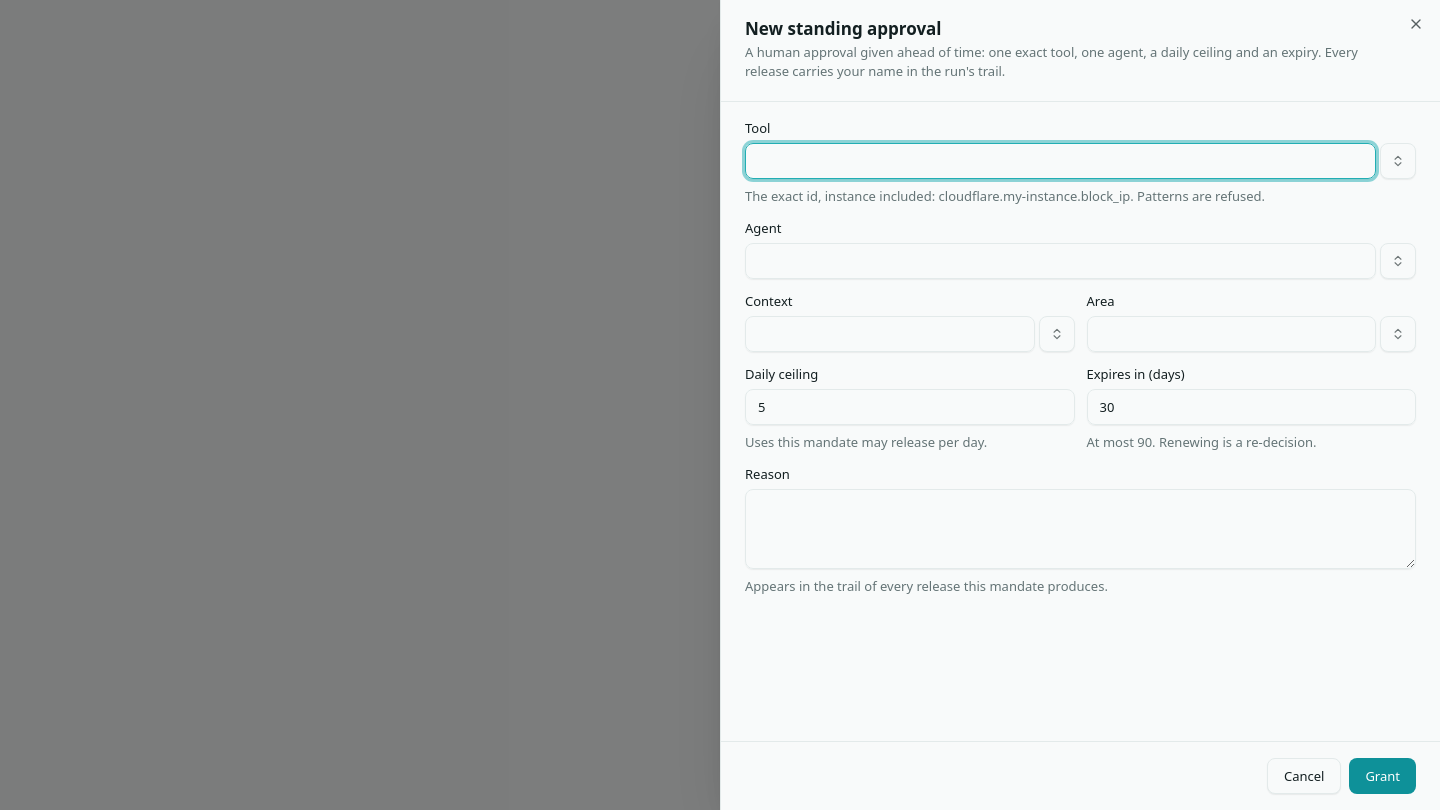
it: offers the declared companies and areas
Click the dropdown named "Suggest declared areas": [1398, 334] box [1380,316,1416,352]
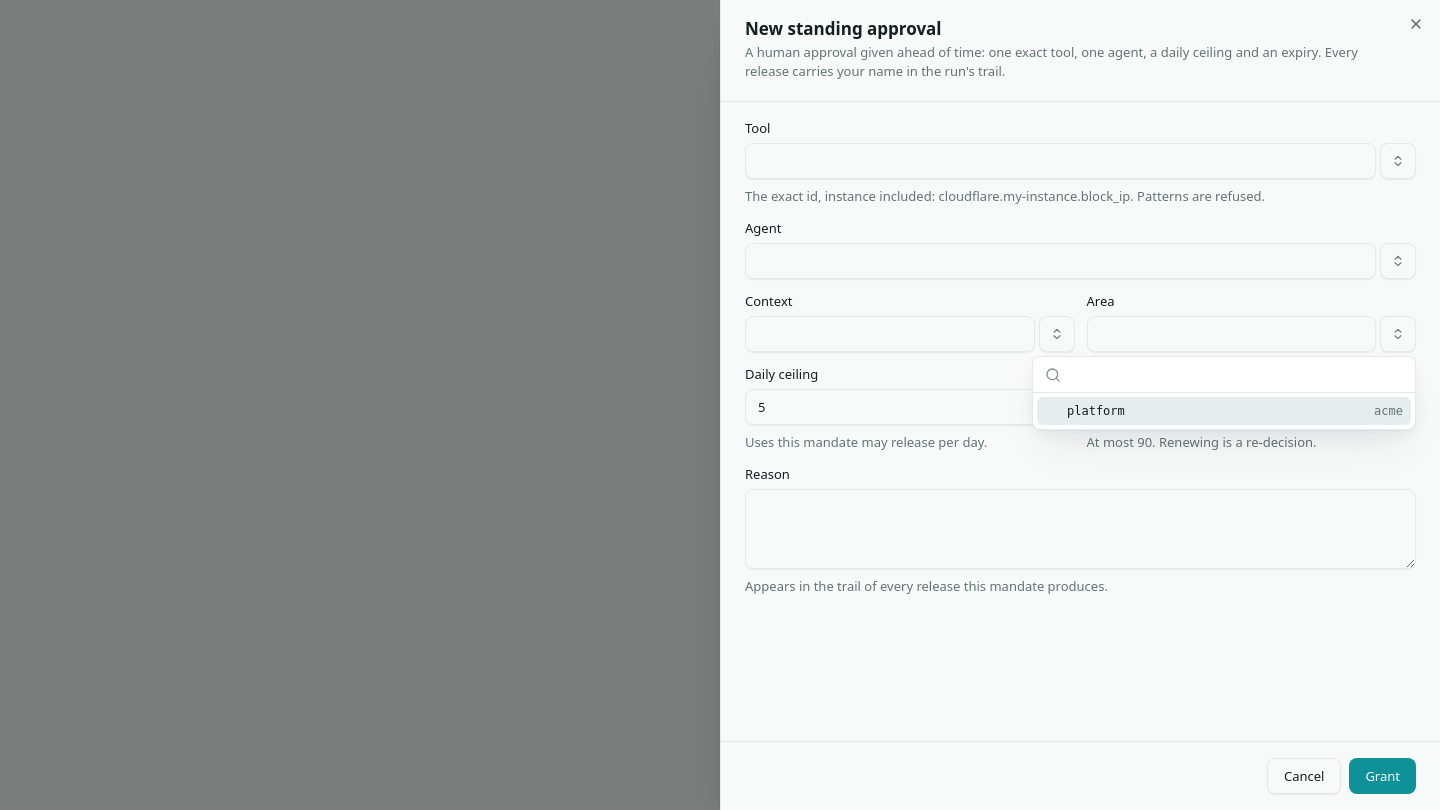
Click the text "platform": [1096, 411] box [1067,403,1125,419]
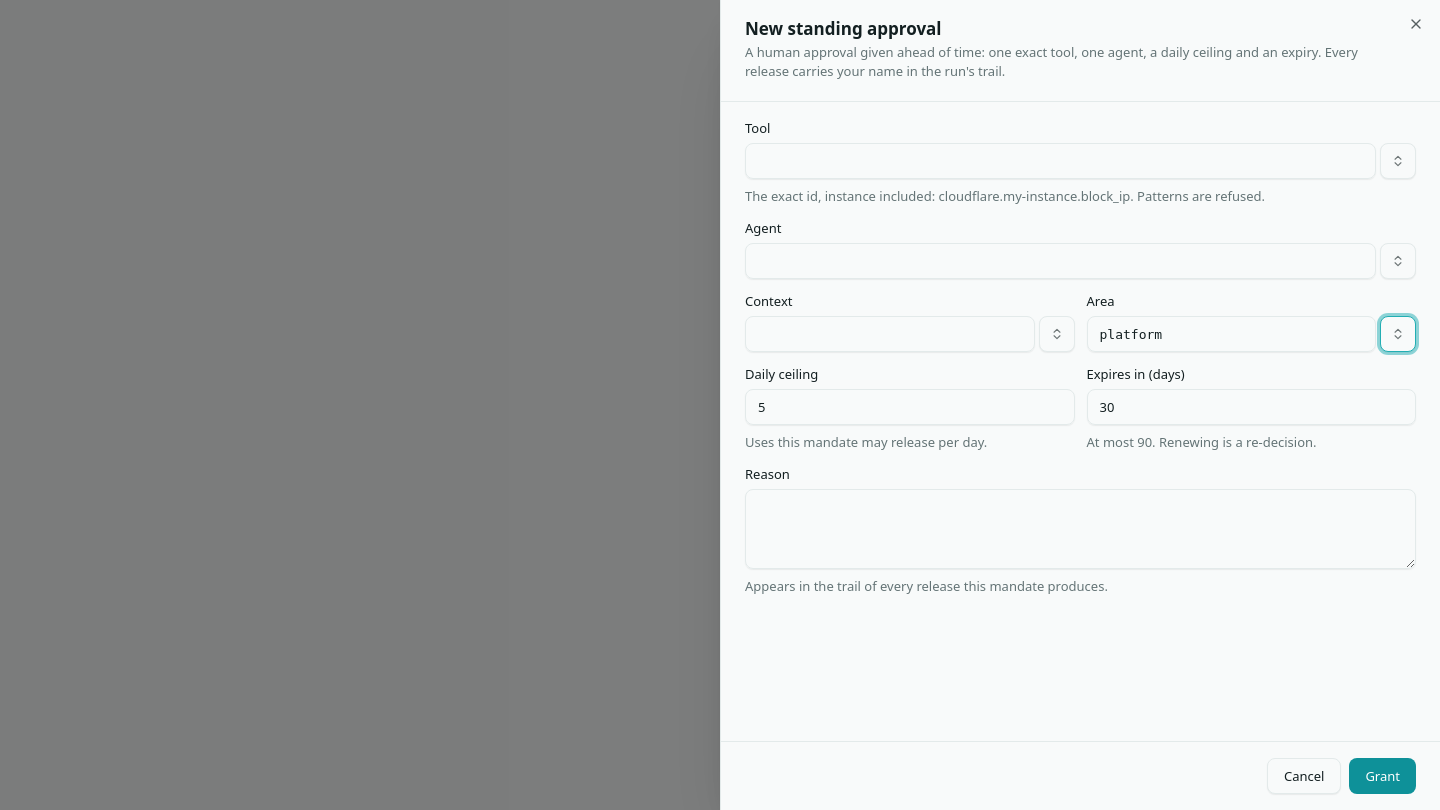
Check: the field labelled "Area" holds "platform", box [1086,316,1376,352]
